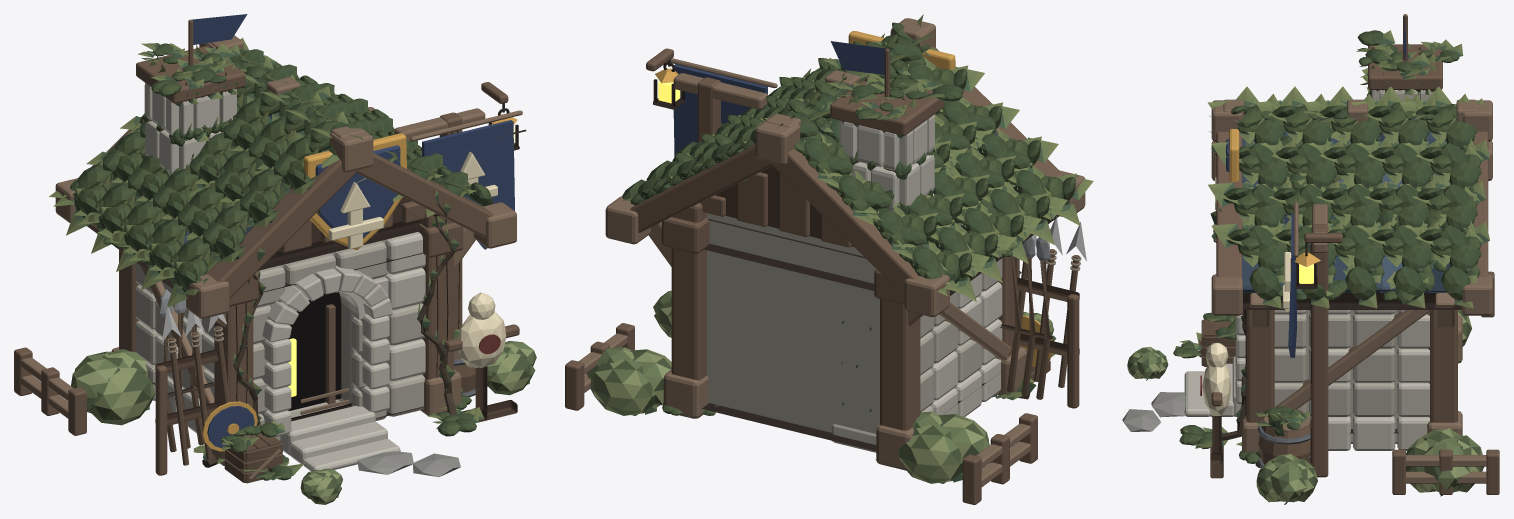
Rendered from barracks.glb.
3 views of the same model, side by side, from view 1: azimuth 30°, elevation 25°; view 2: azimuth 150°, elevation 25°; view 3: azimuth 270°, elevation 25° (orthographic). The views are drawn at different scales.
Parts seen in each view (by area): view 1: Carved roof verge, Cloth heraldic banner, Open barracks doorway, Carved roof verge.002, Corner upright.002, Corner upright, Leaf cluster.004, Barracks heraldic shield.001, Barracks tower cap, Limestone entrance step.001, Limestone entrance step.002, Padded training torso (+54 smaller); view 2: Cottage walls, Corner upright.003, Corner upright.001, Carved roof verge.001, Carved roof verge.003, Leaf cluster.007, Leaf cluster.011, Barracks tower cap, Cloth heraldic banner, Projecting timber footing.003, Chunky roof joinery.004, Chunky roof joinery.003 (+46 smaller); view 3: Banner post, Corner upright.003, Corner upright.002, Side wall diagonal.001, Carved roof verge.002, Barracks tower cap, Roof eave.001, Side limestone block.013, Side limestone block.005, Chunky roof joinery.002, Side limestone block.021, Barrel staves.001 (+63 smaller).
Boxes of the visible parts, <box> form: Carved roof verge: <box>206,159,357,298</box>; Cloth heraldic banner: <box>422,120,514,249</box>; Open barracks doorway: <box>288,292,341,410</box>; Carved roof verge.002: <box>357,153,493,237</box>; Corner upright.002: <box>420,212,453,379</box>; Corner upright: <box>214,301,253,407</box>; Leaf cluster.004: <box>90,367,154,425</box>; Barracks heraldic shield.001: <box>315,145,400,238</box>; Barracks tower cap: <box>136,46,245,103</box>; Limestone entrance step.001: <box>290,421,387,463</box>; Limestone entrance step.002: <box>280,405,375,455</box>; Padded training torso: <box>457,311,506,367</box>; Cottage walls: <box>707,213,879,433</box>; Corner upright.003: <box>671,203,706,380</box>; Corner upright.001: <box>880,299,920,430</box>; Carved roof verge.001: <box>771,149,919,296</box>; Carved roof verge.003: <box>630,144,772,232</box>; Leaf cluster.007: <box>897,424,962,483</box>; Leaf cluster.011: <box>590,359,655,415</box>; Barracks tower cap: <box>830,76,944,135</box>; Cloth heraldic banner: <box>673,64,767,156</box>; Projecting timber footing.003: <box>663,369,708,418</box>; Chunky roof joinery.004: <box>904,274,949,316</box>; Chunky roof joinery.003: <box>755,117,800,164</box>; Banner post: <box>1311,224,1328,477</box>; Corner upright.003: <box>1430,262,1457,422</box>; Corner upright.002: <box>1246,310,1274,422</box>; Side wall diagonal.001: <box>1275,310,1431,409</box>; Carved roof verge.002: <box>1216,131,1242,277</box>; Barracks tower cap: <box>1368,44,1442,89</box>; Roof eave.001: <box>1243,291,1461,309</box>; Side limestone block.013: <box>1353,382,1395,416</box>; Side limestone block.005: <box>1353,416,1395,450</box>; Chunky roof joinery.002: <box>1211,274,1242,315</box>; Side limestone block.021: <box>1353,348,1395,382</box>; Barrel staves.001: <box>1258,421,1311,464</box>.
Size of the model in its own units: 4.58 by 4.1 by 3.77.
Materials: 45 (8 with a texture image).
